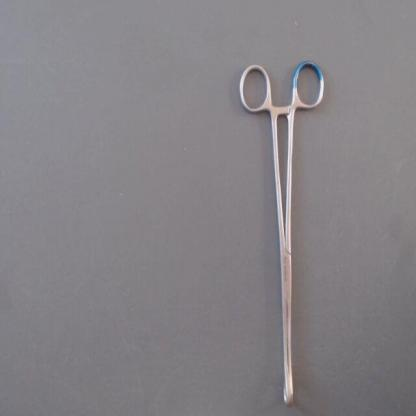Sponge Forceps: (231, 54, 331, 411)
